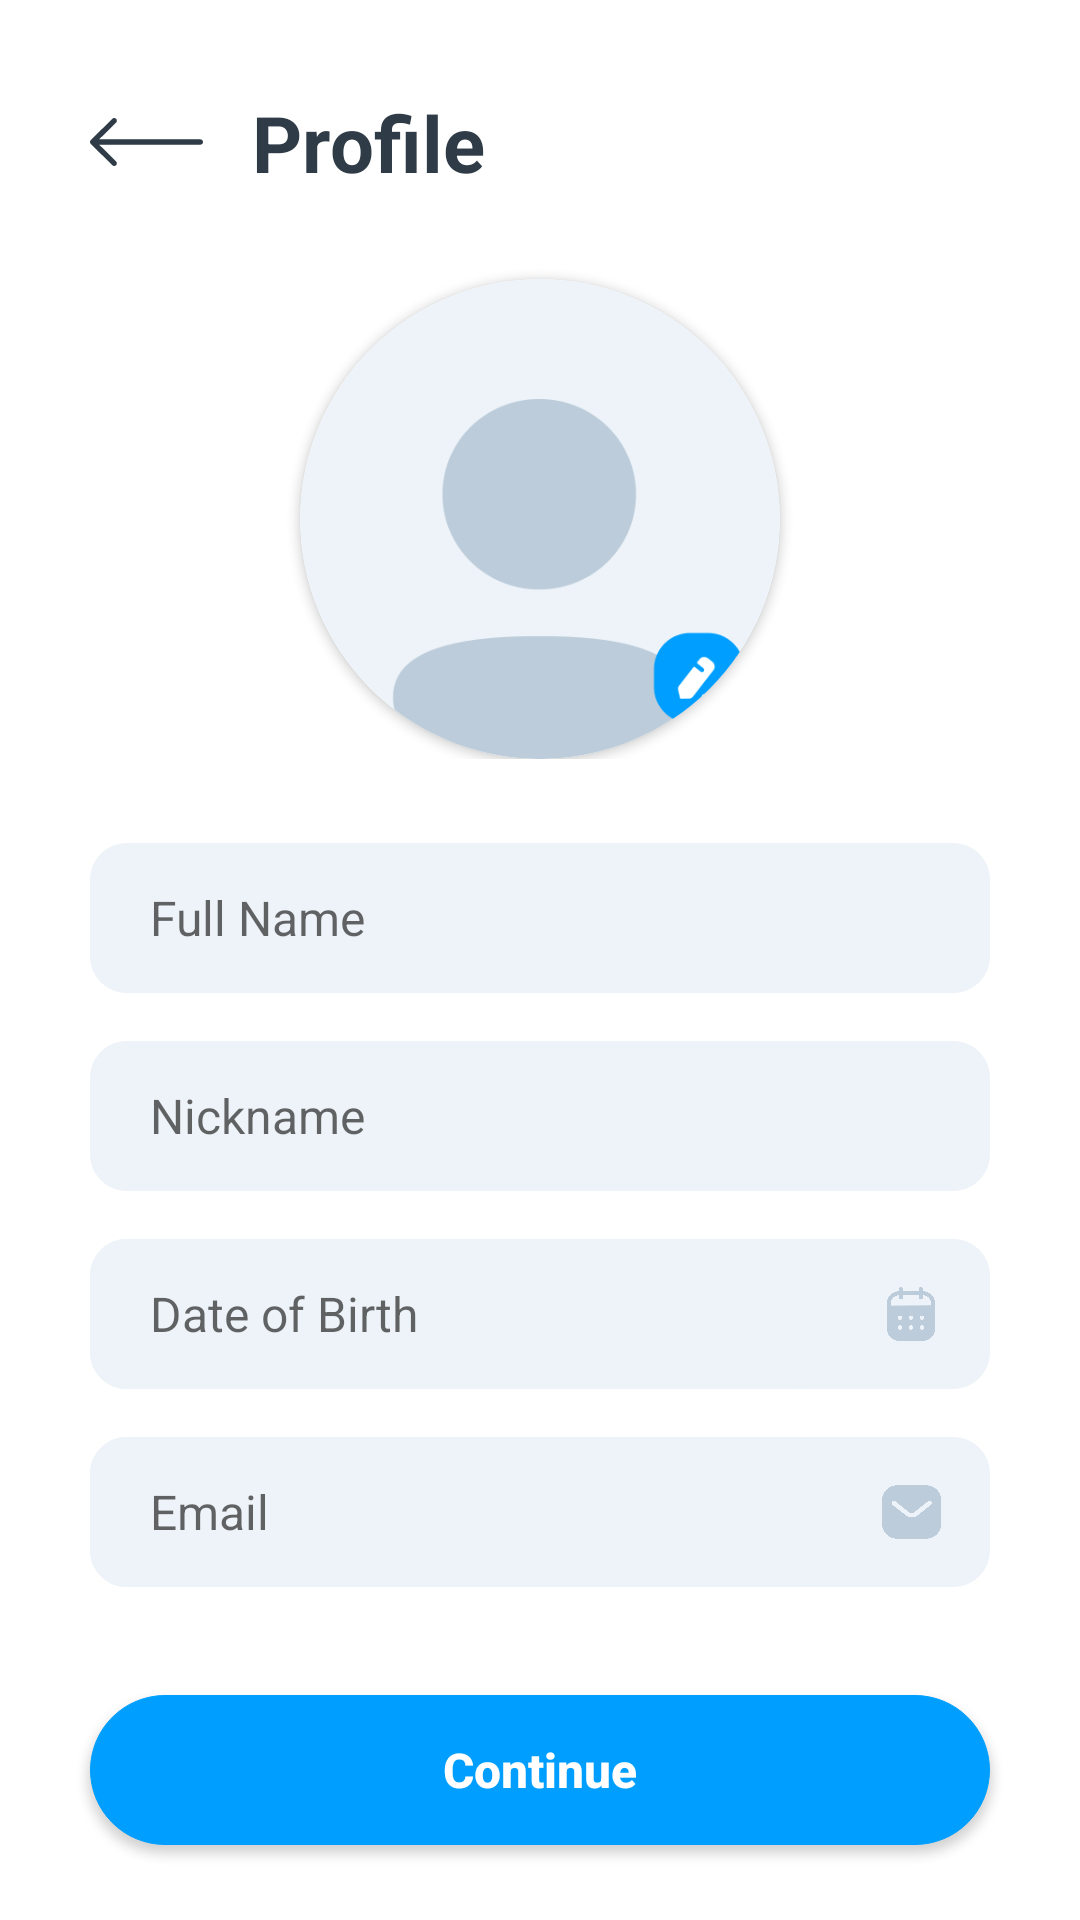

Icon bounding boxes for this 1080x1920 phone screenshot, format (x1, y1, x2, y2):
backward: (90, 118, 203, 166)
calendar: (887, 1287, 935, 1341)
message: (882, 1485, 941, 1539)
